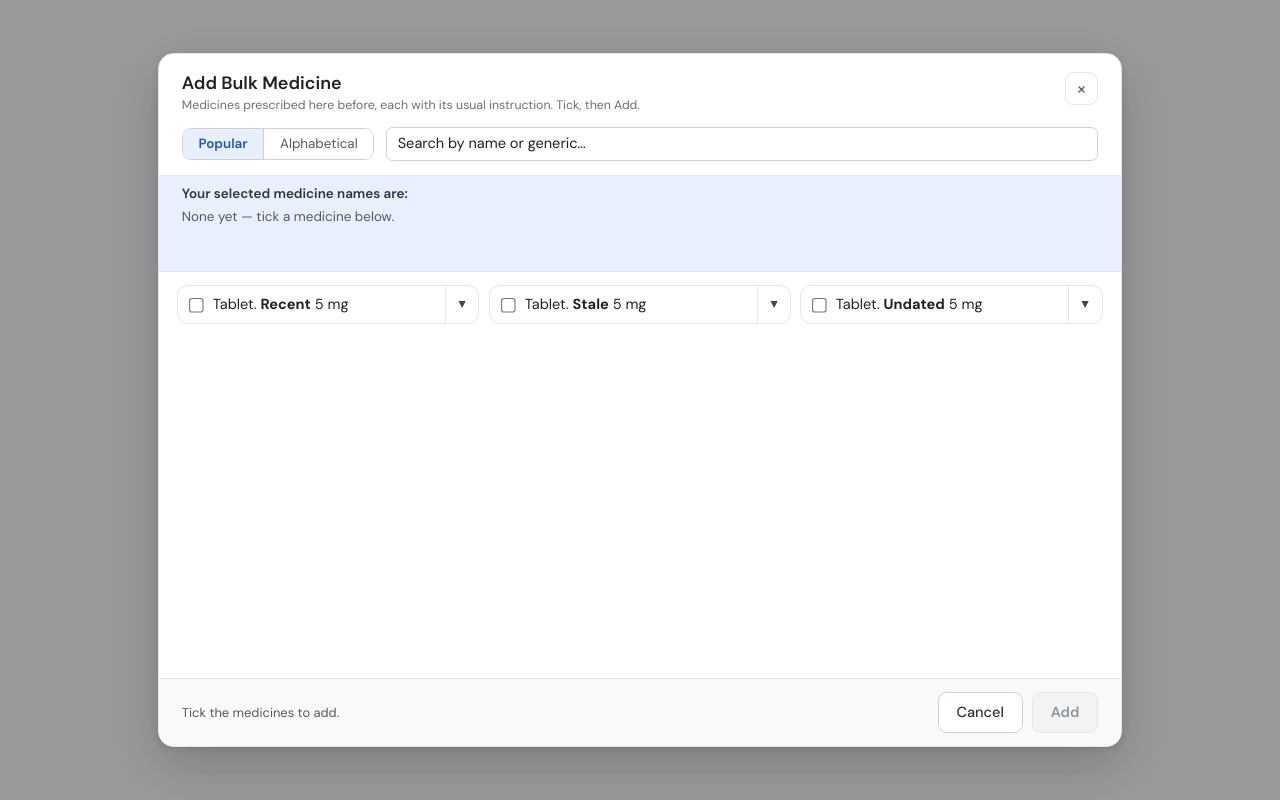
BulkMedicineModal › ⚕️ the ▼ says when each instruction was last written beside its count — with the year once it is not this one
Step 1. Click the button "▼" in the row of "Recent" → (462, 305), box [445, 286, 479, 323]
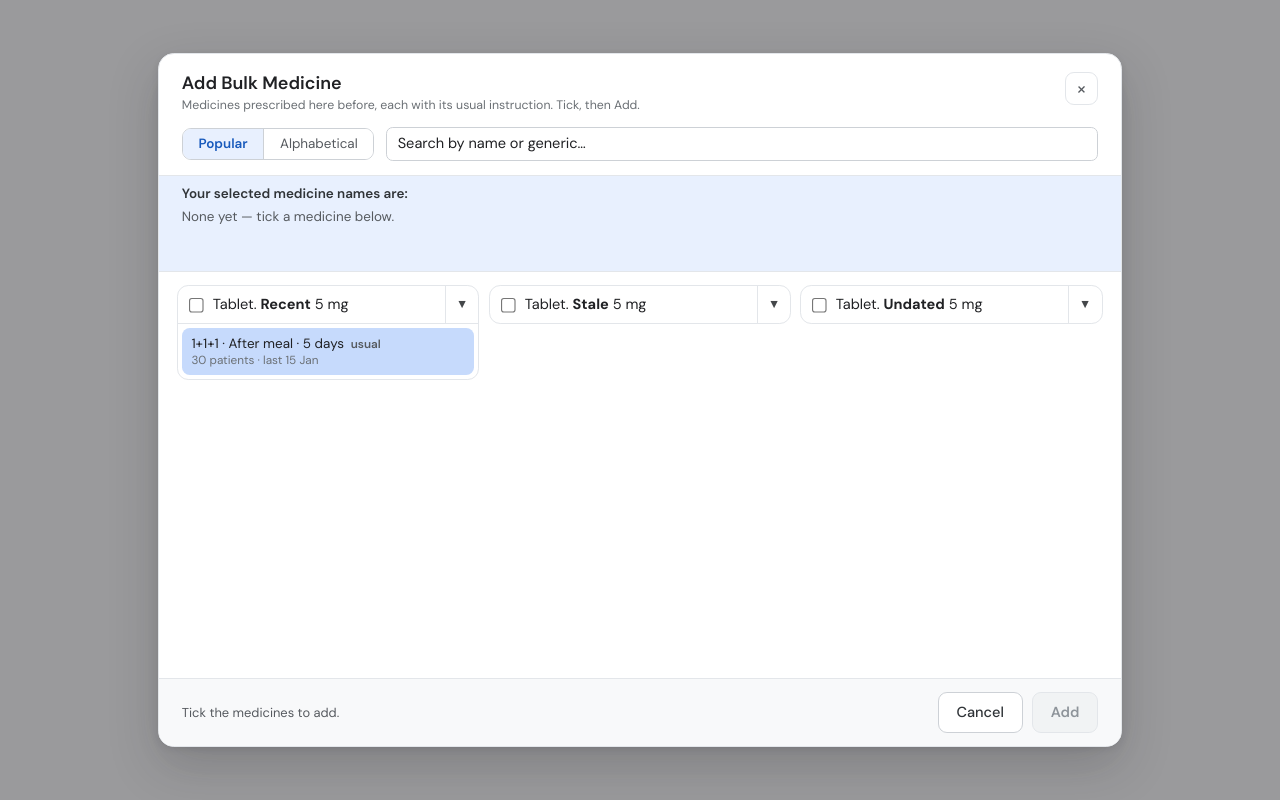
expect the option shows "last 15 Jan": met, box [183, 329, 474, 375]
Step 2. Click the button "▼" in the row of "Stale" → (773, 305), box [757, 286, 790, 323]
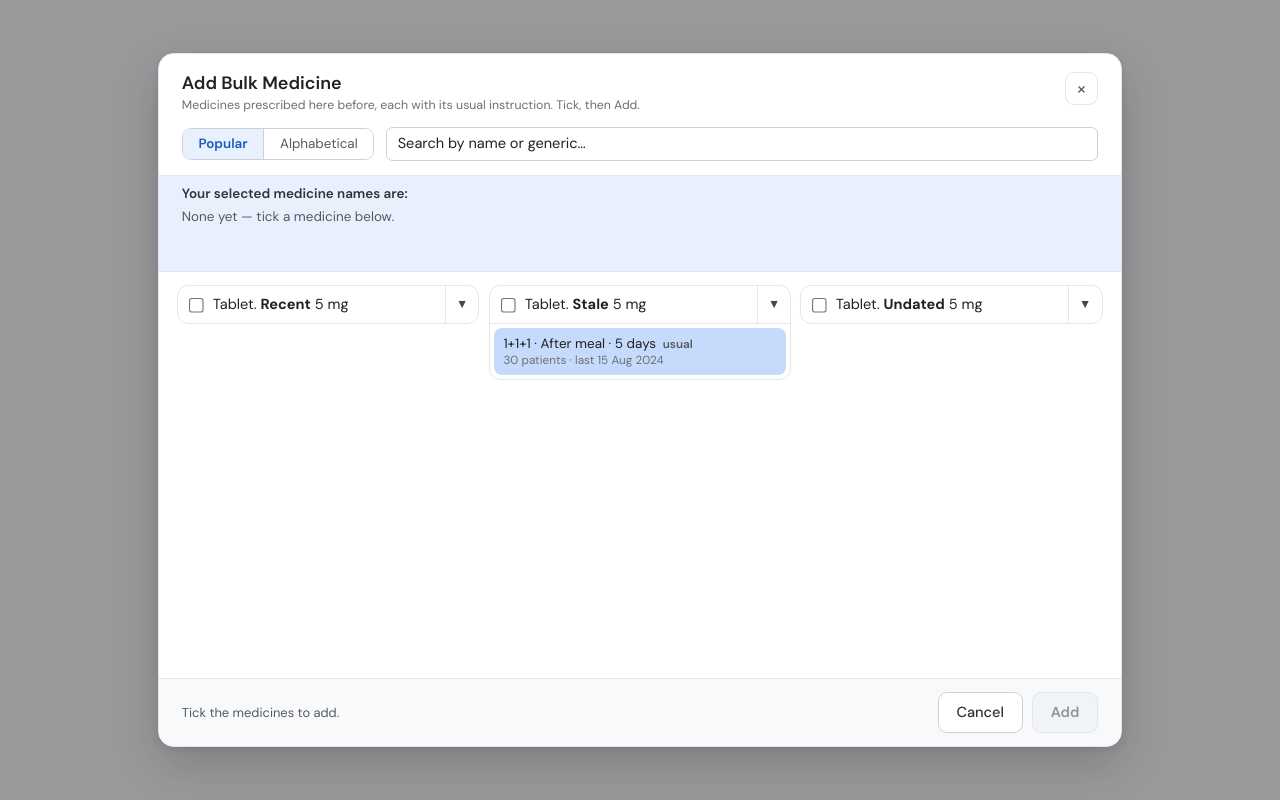
expect the option shows "last 15 Aug 2024": met, box [494, 329, 786, 375]
Step 3. Click the button "▼" in the row of "Undated" → (1085, 305), box [1068, 286, 1102, 323]
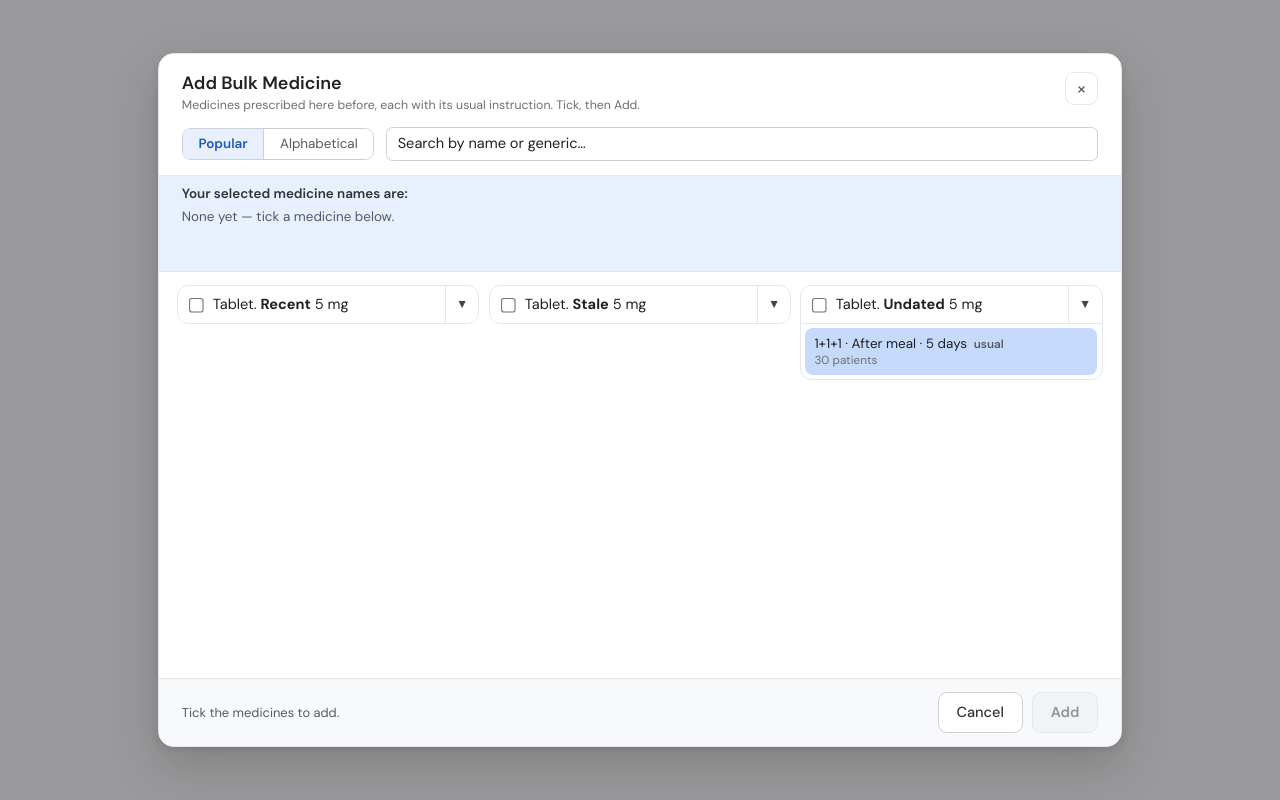
expect the option no longer shows "last": met
